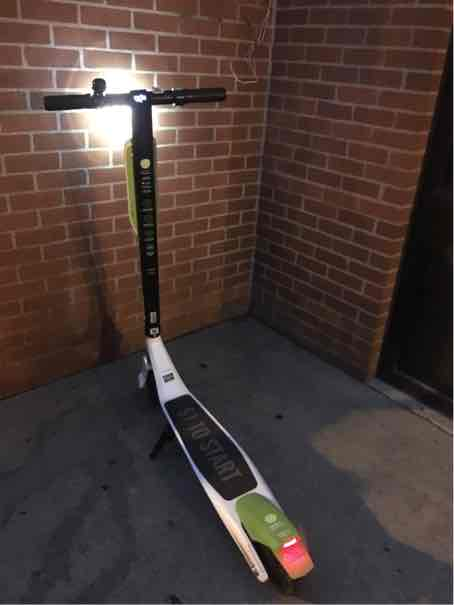scooter: (40, 87, 345, 605)
